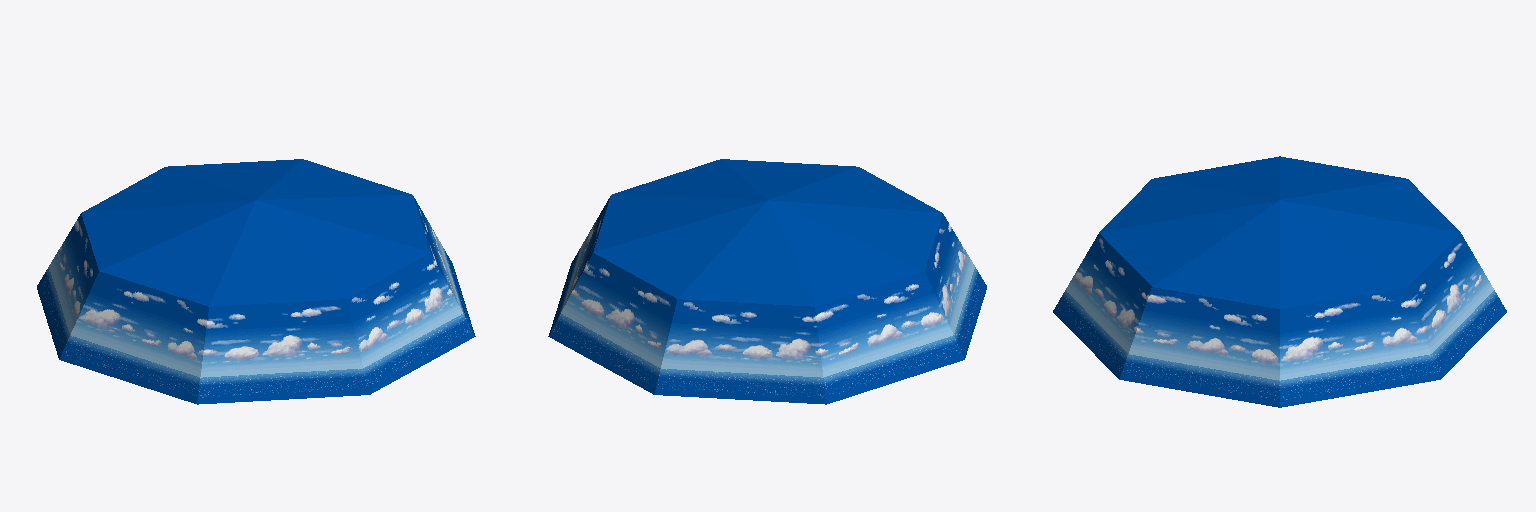
3 views of the same model, side by side, from view 1: azimuth 30°, elevation 25°; view 2: azimuth 150°, elevation 25°; view 3: azimuth 270°, elevation 25° (orthographic).
Size of the model in its own units: 745 by 202 by 745.
1 materials, 1 textured.